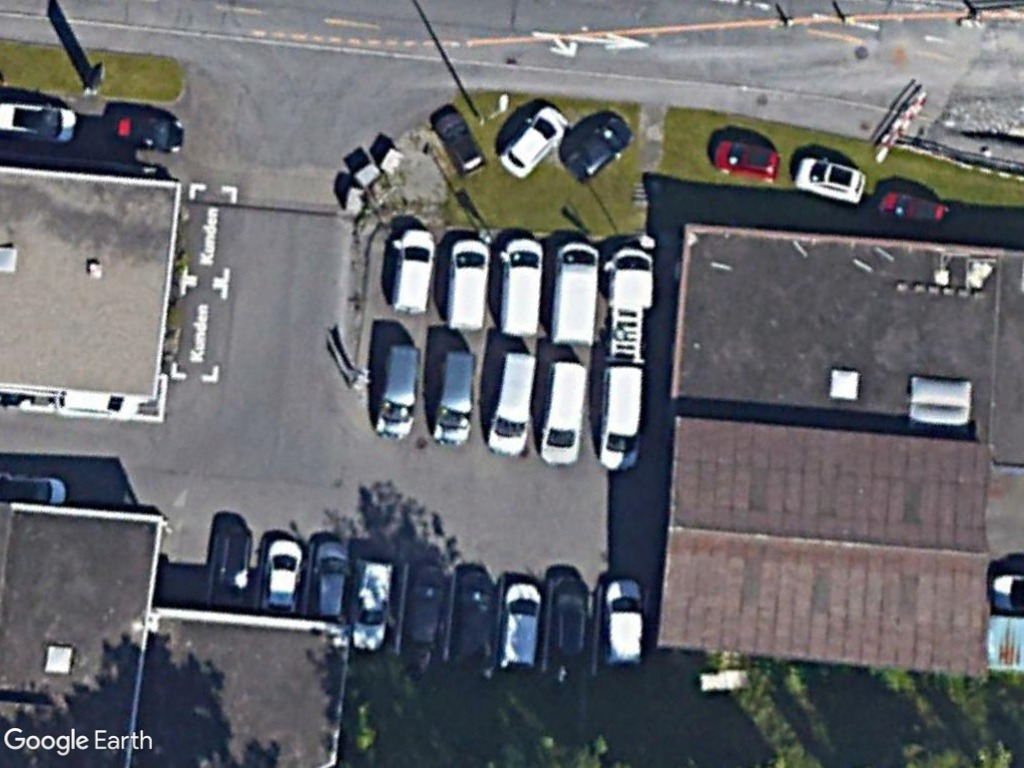car: (493, 104, 570, 183), (349, 556, 397, 655), (497, 580, 542, 678), (790, 154, 870, 206), (428, 107, 488, 176), (305, 534, 351, 621), (604, 576, 645, 671), (259, 533, 304, 617), (708, 137, 782, 183)
van: (548, 240, 603, 347), (535, 360, 588, 465), (597, 363, 647, 472), (486, 350, 536, 458), (373, 342, 424, 441), (498, 235, 545, 338), (430, 349, 478, 449), (444, 235, 492, 332), (389, 226, 437, 315)
